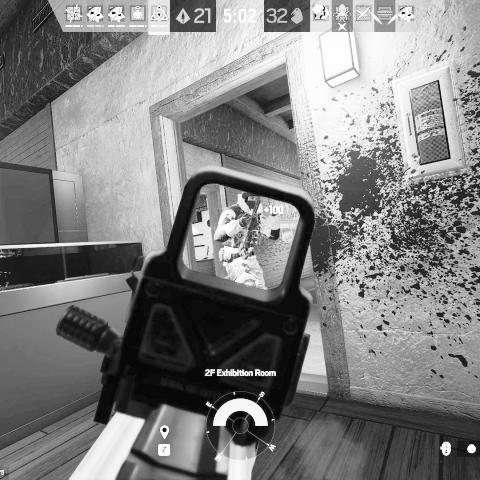Character: (212, 186, 282, 291)
Head: (240, 189, 261, 210)
